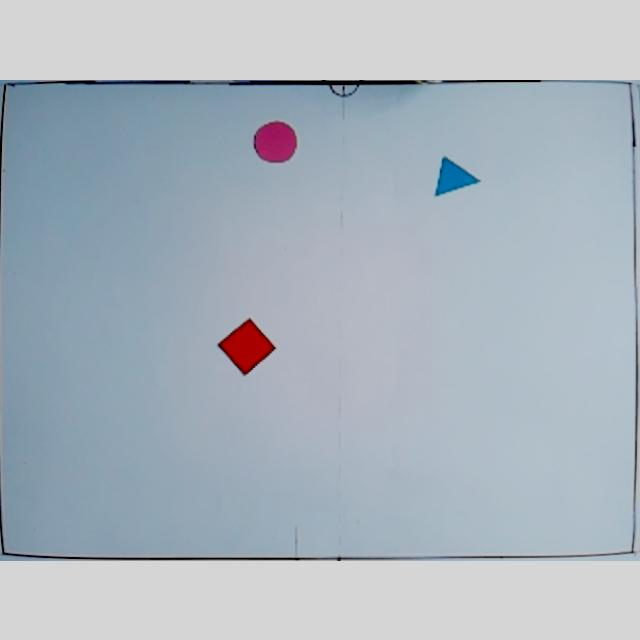blueTriangle: (432, 154, 480, 198)
pinkCircle: (252, 118, 298, 162)
redSquare: (217, 315, 277, 377)
